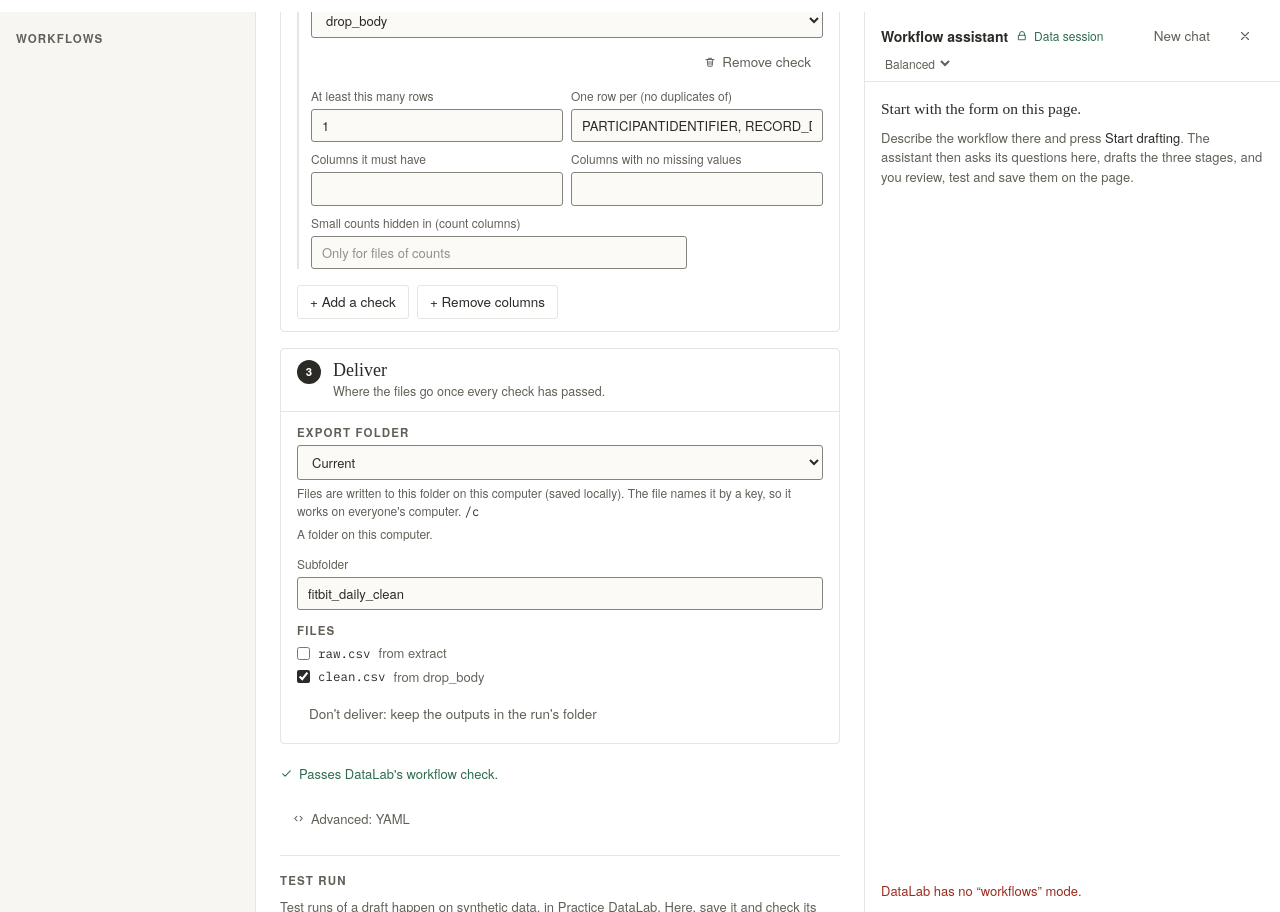
Test: says when a saved workflow's folder wasn't mapped, and why
(page scrolled)
Select "Lab exports" in the dropdown labelled "Export folder": (560, 462) x1=297 y1=445 x2=823 y2=480
(page scrolled)
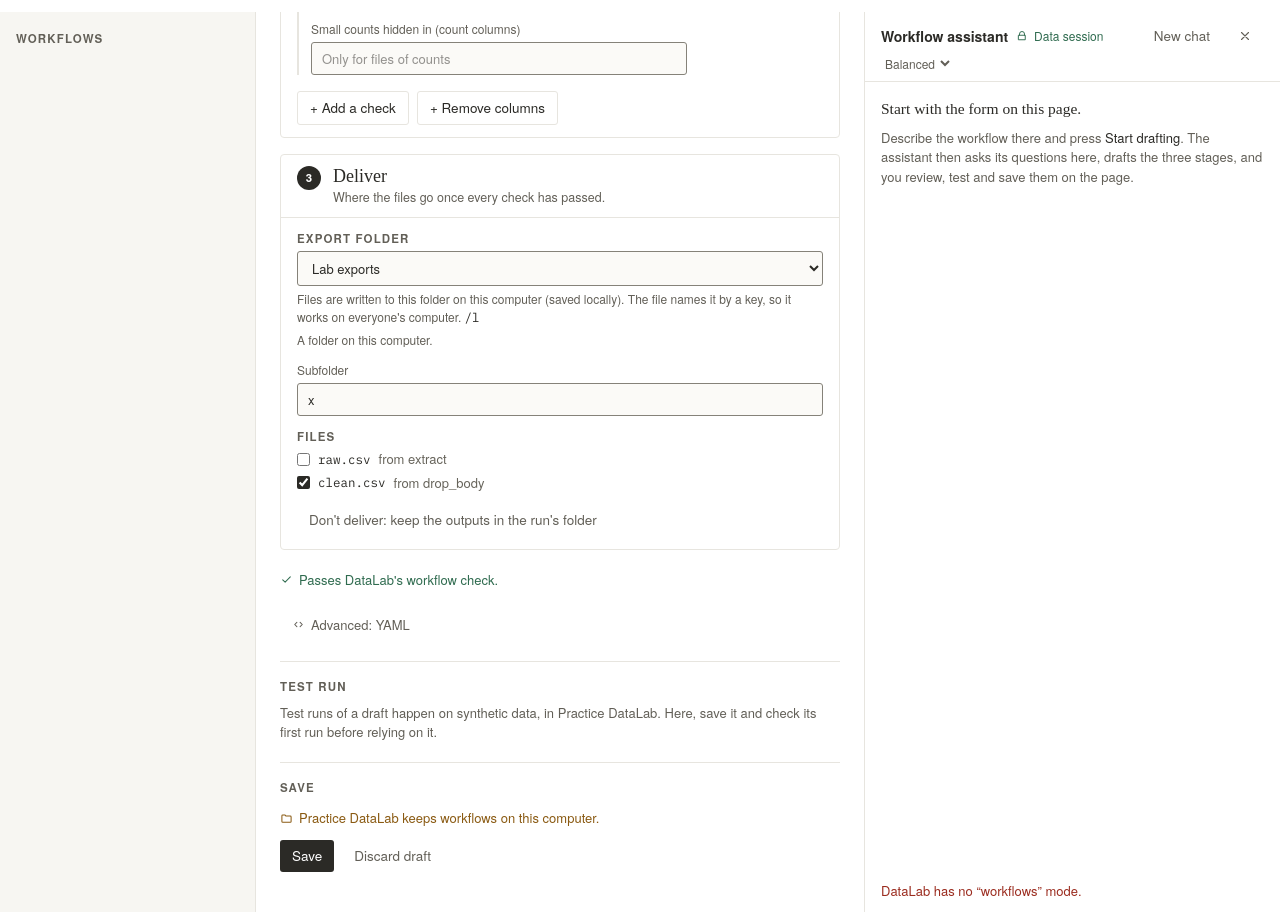
Check: the text "Passes DataLab's workflow check." is shown, box x1=280 y1=570 x2=498 y2=588
Click the button "Save": (307, 856) x1=280 y1=840 x2=334 y2=872
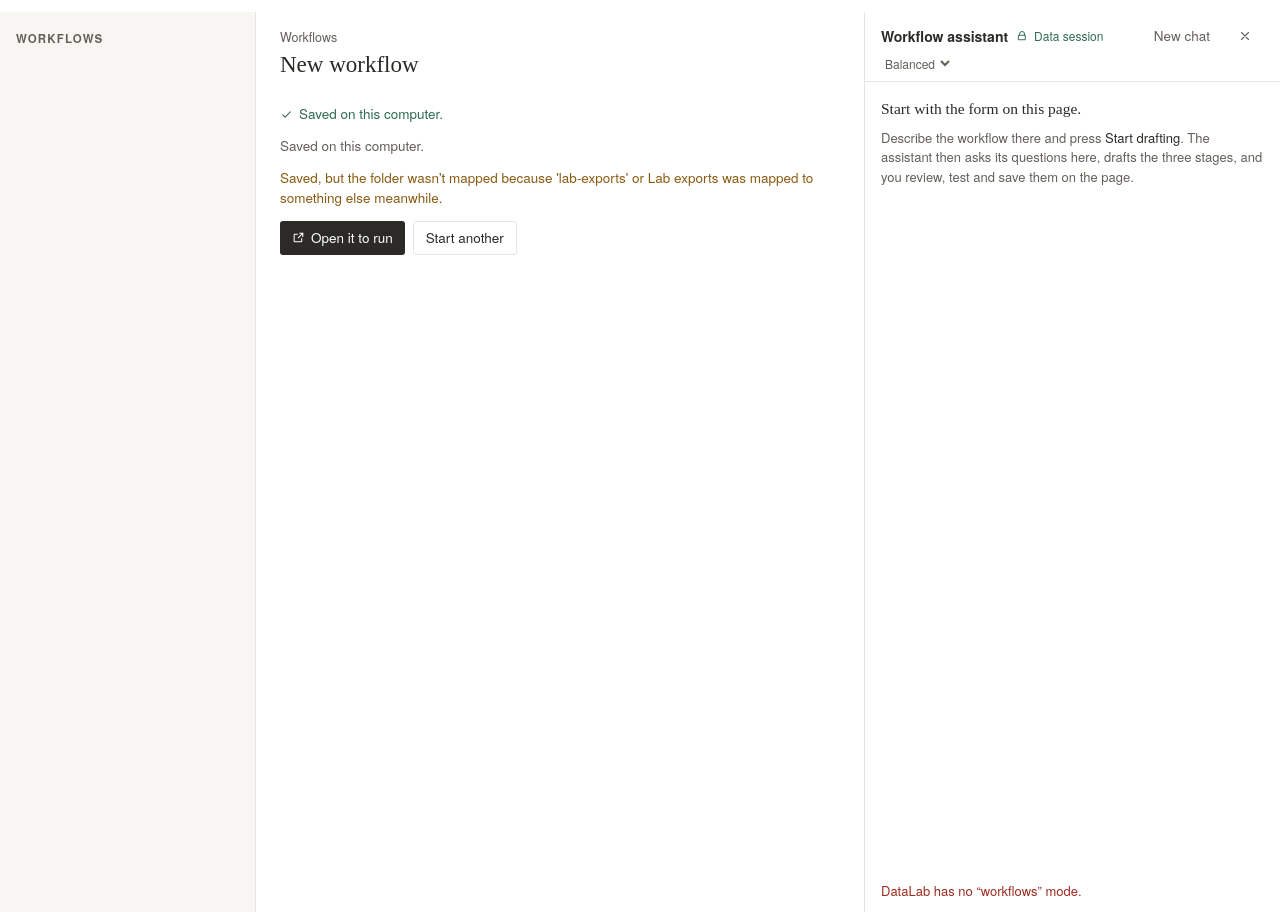
Check: the message shows "Saved, but the folder wasn't mapped because", box x1=280 y1=168 x2=813 y2=207
